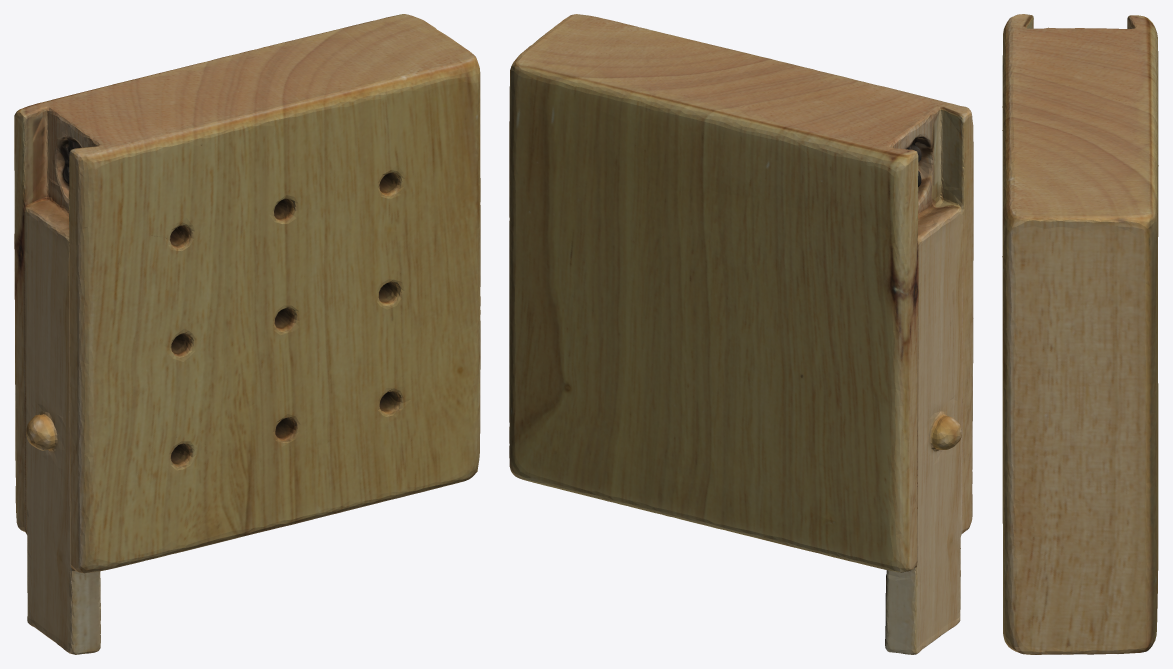
Rendered from nine_hole_peg_test.glb.
The picture shows the model from 3 angles, left to right: view 1: azimuth 30°, elevation 25°; view 2: azimuth 150°, elevation 25°; view 3: azimuth 270°, elevation 25°; orthographic projection. The views are drawn at different scales.
Parts seen in each view (by area): view 1: textured.obj; view 2: textured.obj; view 3: textured.obj.
Boxes of the visible parts, left/top/right/bottom form: textured.obj: left=14, top=14, right=480, bottom=654; textured.obj: left=509, top=14, right=973, bottom=654; textured.obj: left=1002, top=14, right=1158, bottom=654.
Bounding box in the file's own units: 0.1315 × 0.1525 × 0.0405.
1 material, 1 textured.
